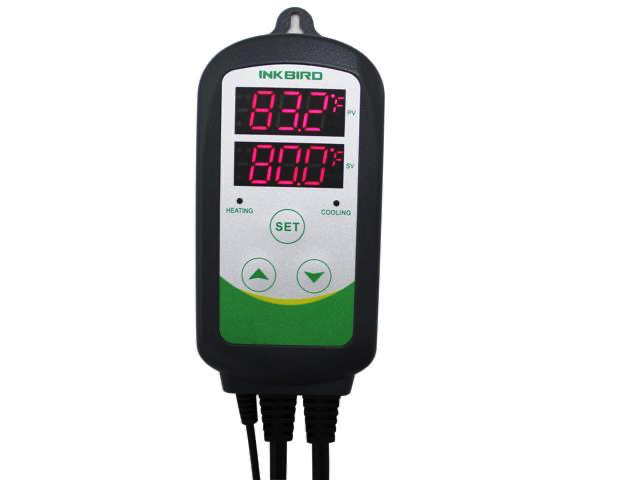.: (296, 127, 304, 133), (296, 180, 301, 186)
0: (275, 143, 303, 185), (301, 145, 328, 186)
2: (301, 90, 329, 132)
3: (278, 89, 302, 131)
8: (248, 89, 276, 131), (248, 143, 276, 185)
panel: (234, 86, 346, 137), (233, 140, 344, 188)
℉: (330, 93, 346, 112), (329, 147, 343, 166)
